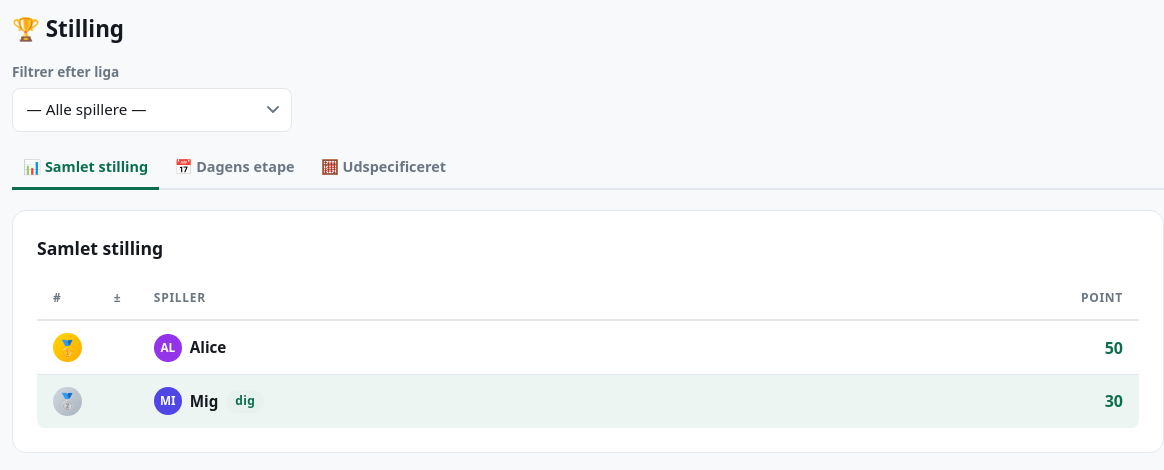
Test: LeaderboardPage › viser daglige point i dagsfanen
The image size is (1164, 470).
Click the tab "📅 Dagens etape".
click(235, 169)  # box 163,148 -> 306,190
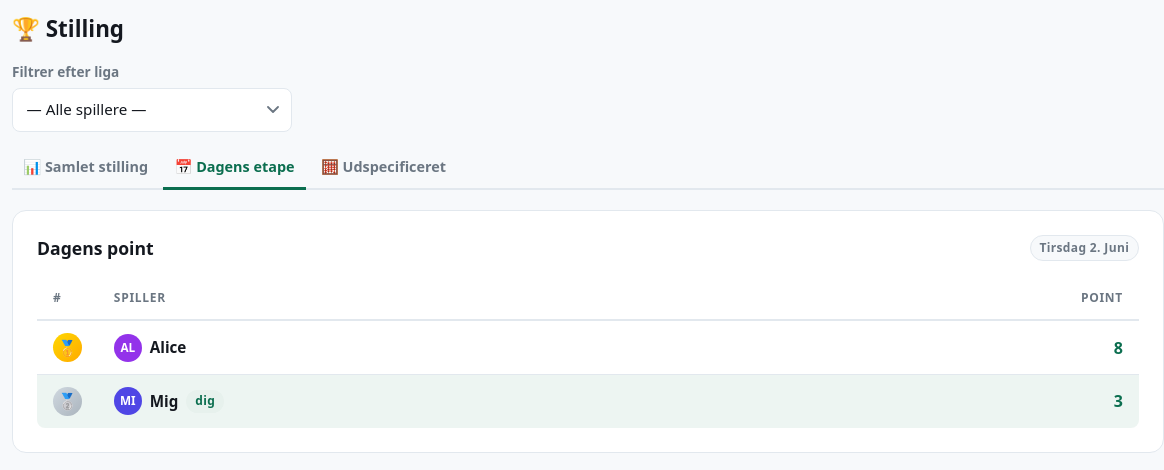
expect the text "3" is shown: met, box 1114,390 -> 1123,412
expect the text "8" is shown: met, box 1114,337 -> 1123,359
